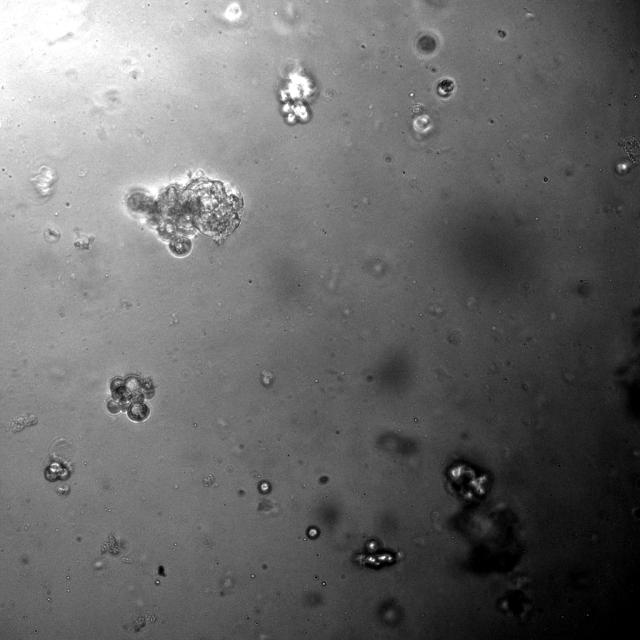organoid: (126, 174, 244, 257), (444, 458, 524, 573), (106, 373, 156, 422), (278, 65, 316, 125), (351, 537, 404, 570), (45, 436, 73, 482), (30, 165, 56, 197), (410, 103, 433, 137), (99, 533, 129, 557), (122, 612, 156, 632), (618, 136, 639, 165), (11, 413, 37, 433), (73, 229, 94, 250), (417, 34, 437, 53), (436, 78, 454, 97), (43, 224, 61, 243), (202, 473, 218, 488), (257, 498, 274, 512), (258, 479, 272, 495), (305, 525, 320, 539), (56, 483, 71, 496), (496, 29, 507, 39), (318, 475, 329, 484), (121, 556, 132, 563), (542, 176, 548, 182)
